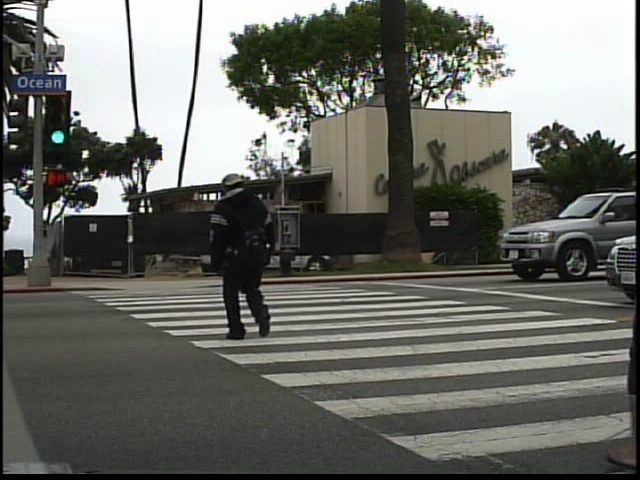person: (201, 163, 291, 355)
